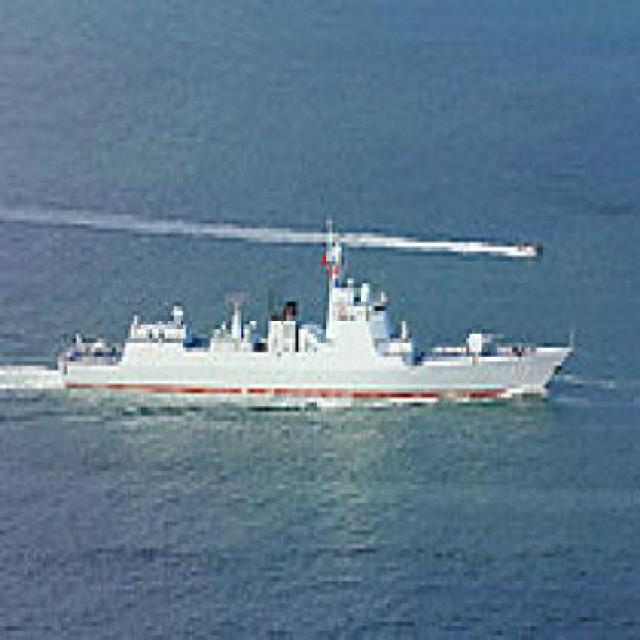warship2: (31, 220, 571, 417)
